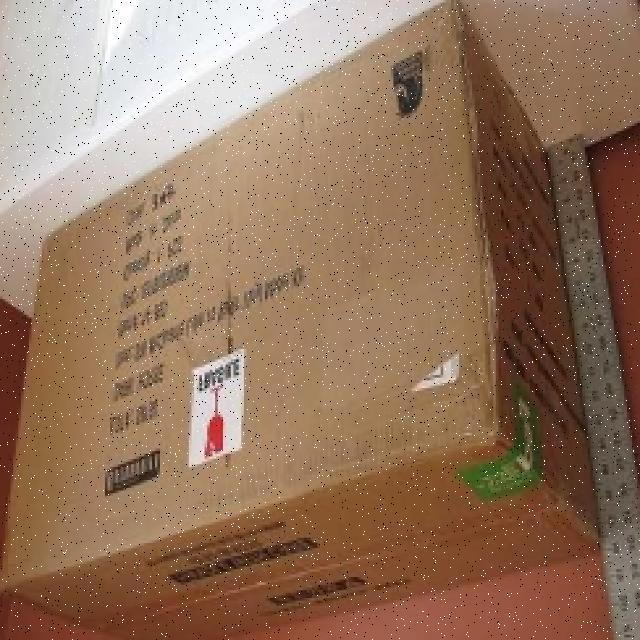box: (0, 13, 580, 640)
